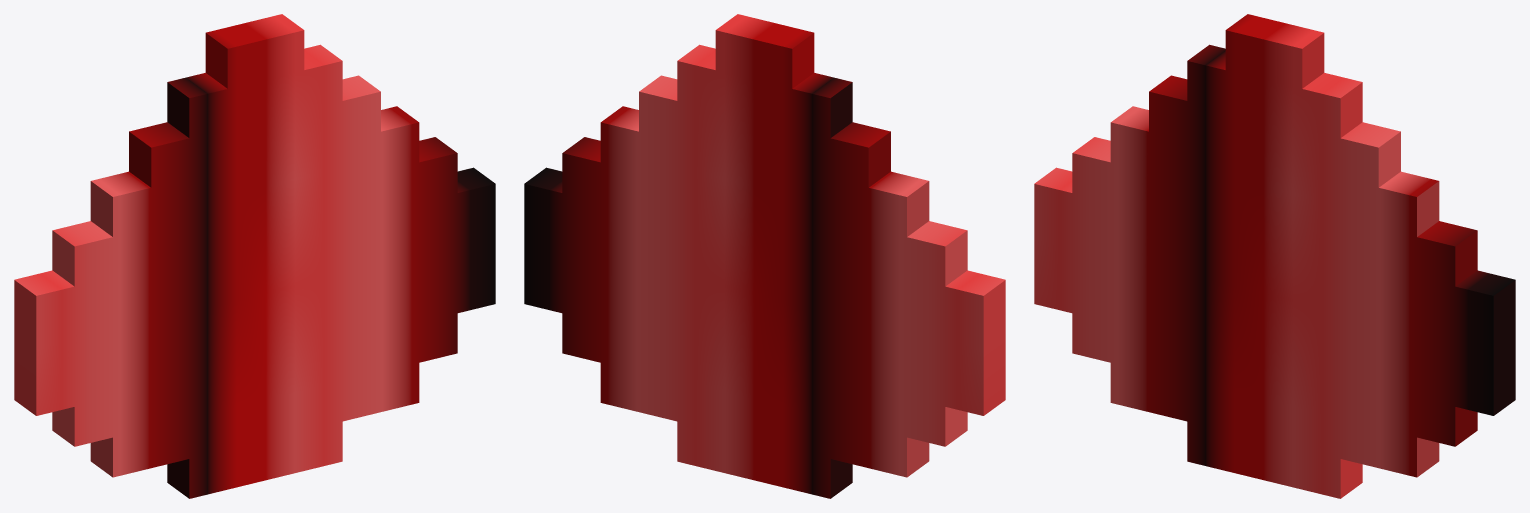
The model's file is GunPowder.obj.
3 renders of one model, left to right at view 1: azimuth 30°, elevation 25°; view 2: azimuth 150°, elevation 25°; view 3: azimuth 330°, elevation 25°, orthographic.
Parts seen in each view (by area): view 1: Gunpowder_Plane.349; view 2: Gunpowder_Plane.349; view 3: Gunpowder_Plane.349.
Part boxes in pixels (x1,y1,x2,y2): Gunpowder_Plane.349: [14, 14, 495, 498]; Gunpowder_Plane.349: [524, 14, 1005, 498]; Gunpowder_Plane.349: [1034, 14, 1515, 498].
Bounding box in the file's own units: 0.5307 × 0.4865 × 0.0442.
